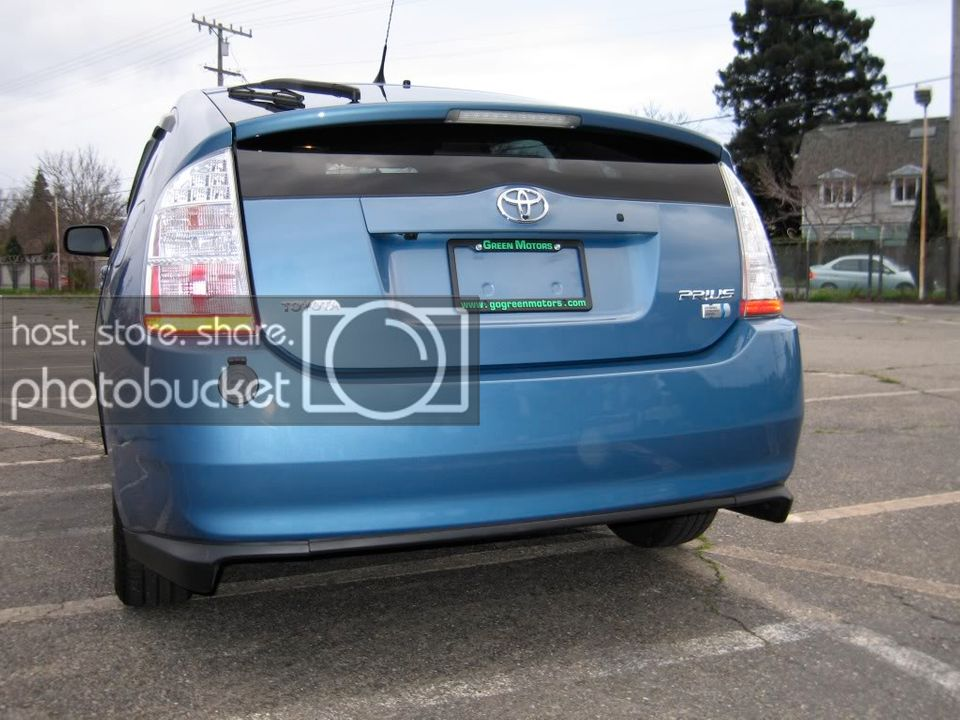Toyota Prius: (92, 79, 803, 605)
